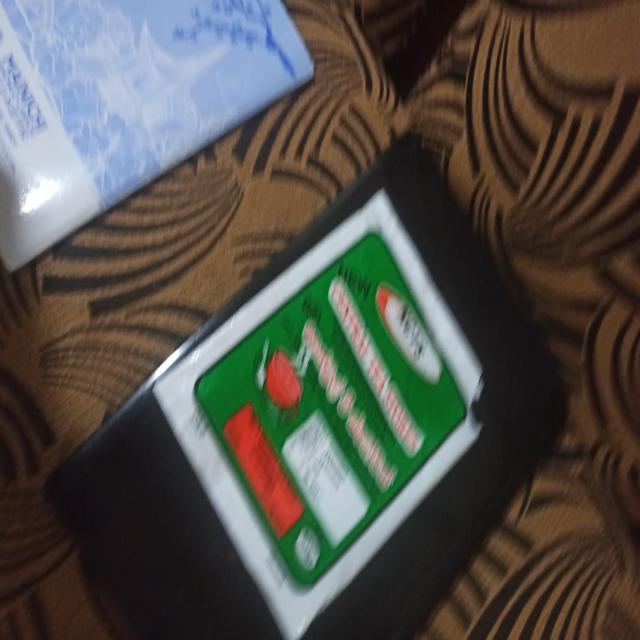Central Tea: (148, 278, 451, 506)
